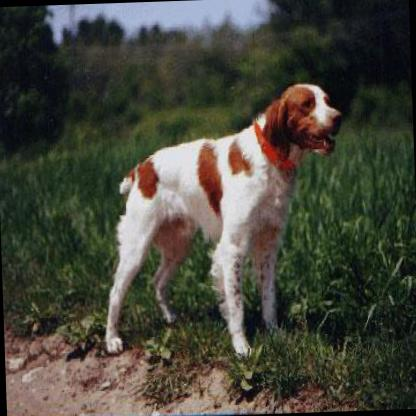Brittany_spaniel: (90, 77, 350, 360)
